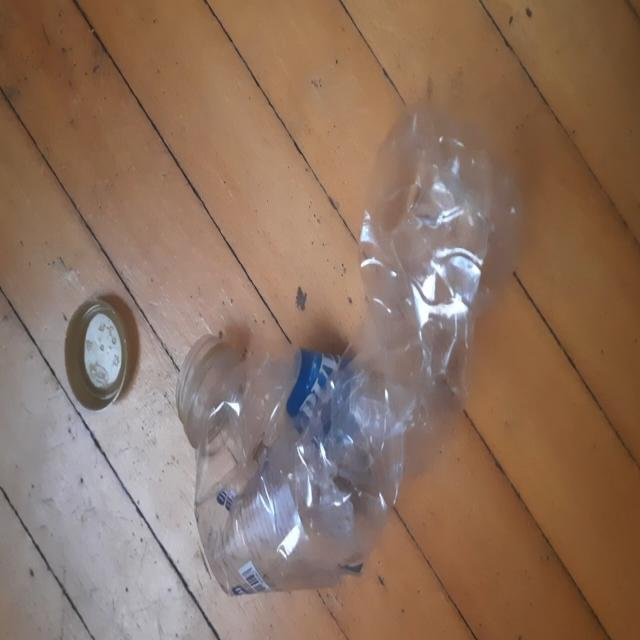Plastic: (187, 103, 520, 596)
